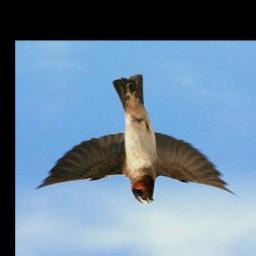Swallow: (34, 74, 241, 205)
